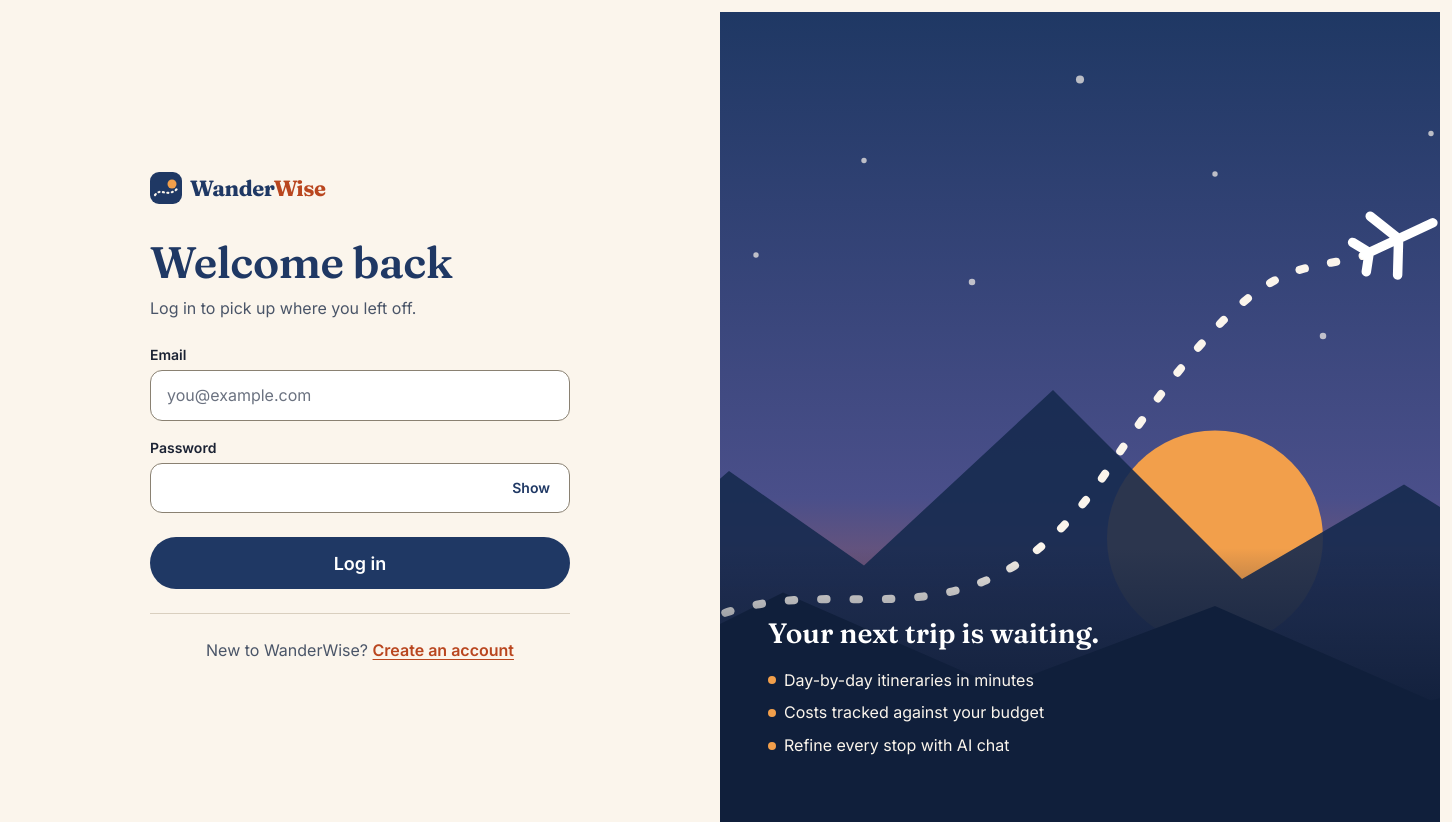
Test: Login page › still explains a 429 if the server sent no message
Type "ada@example.com" into the field labelled "Email" at [360, 395], box [150,370,570,421]
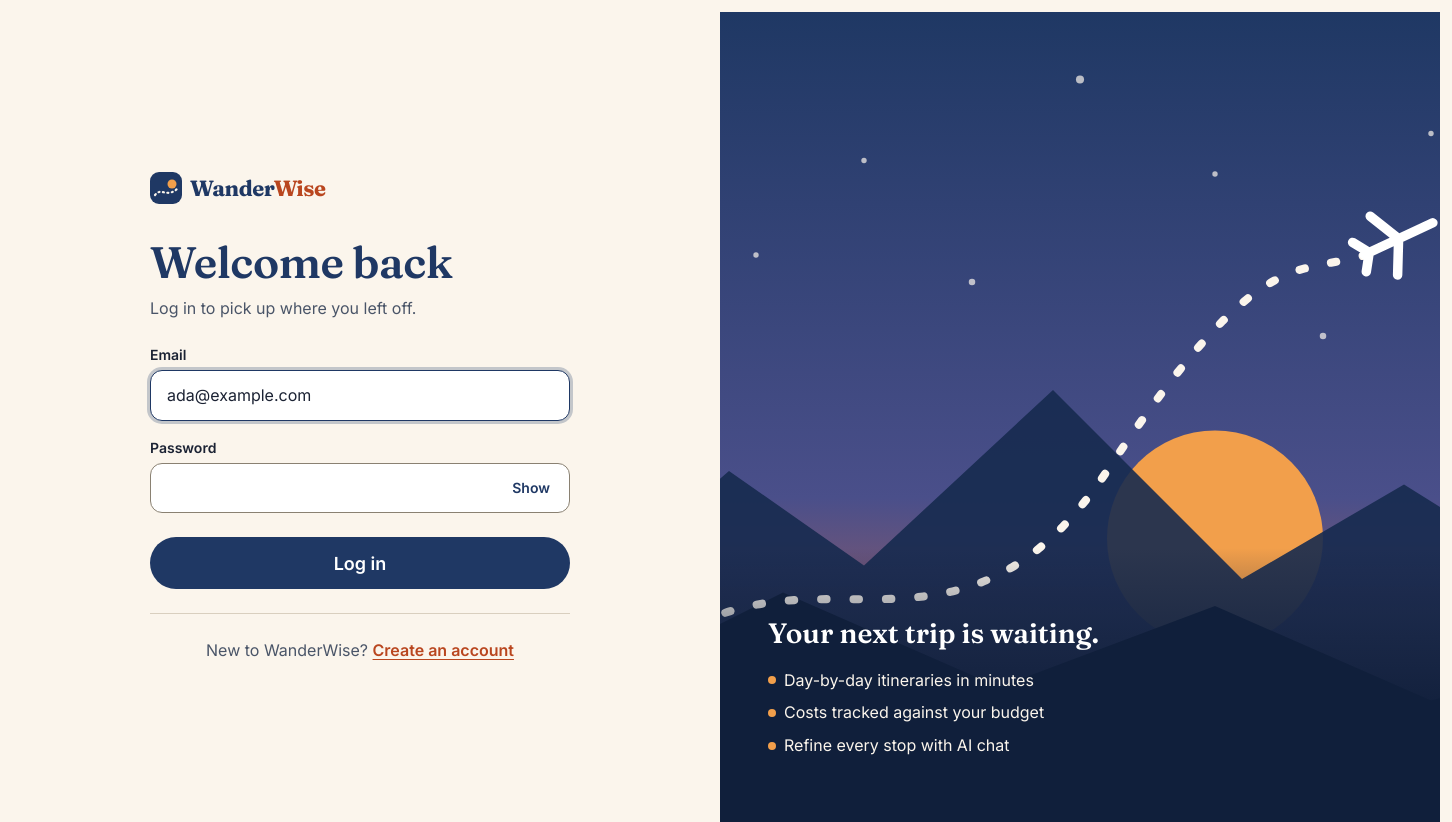
Type "wrong-password" into the password field labelled "Password" at [360, 488], box [150,462,570,513]
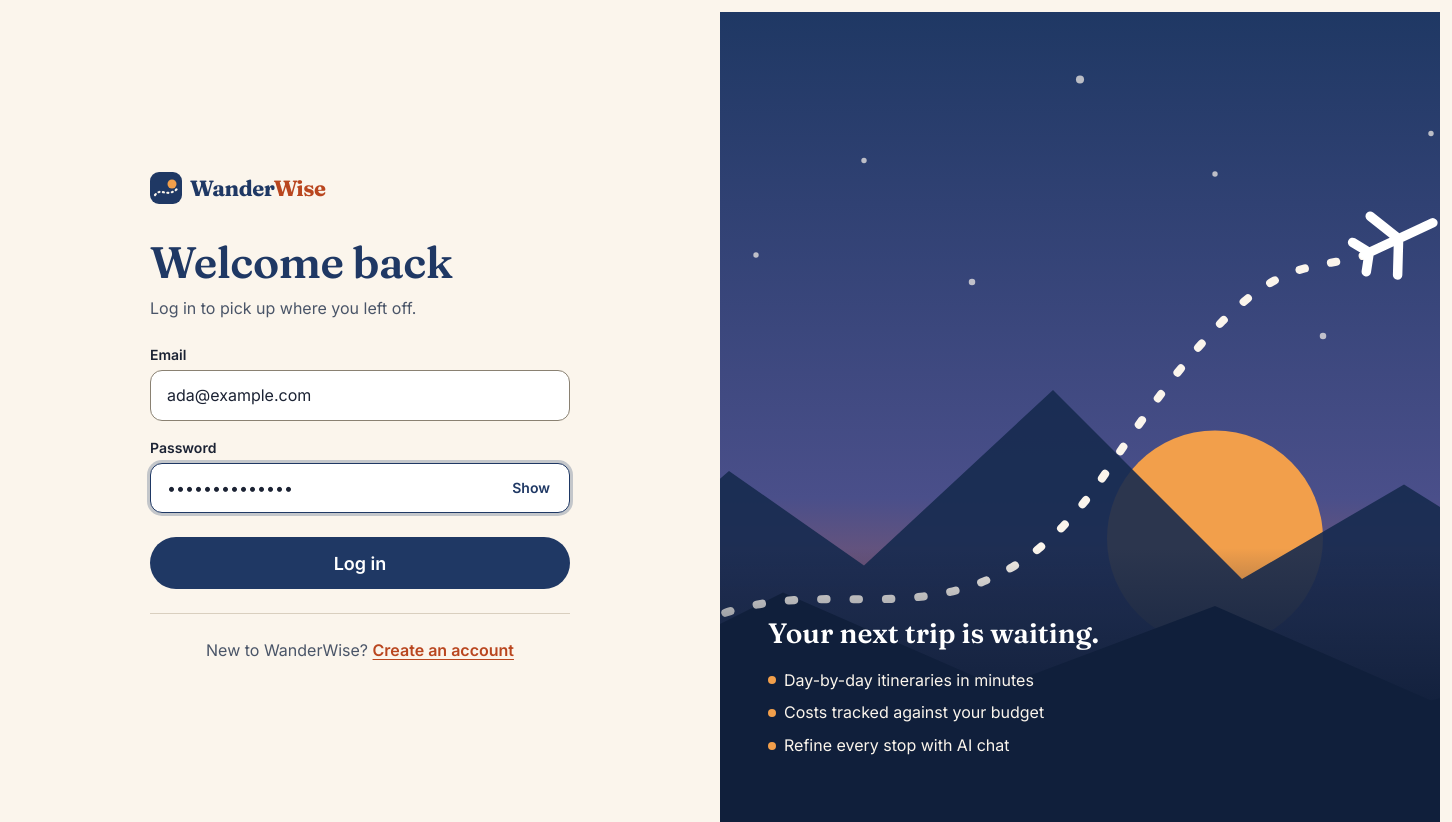
Click the button "Log in" at [360, 563], box [150,537,570,589]
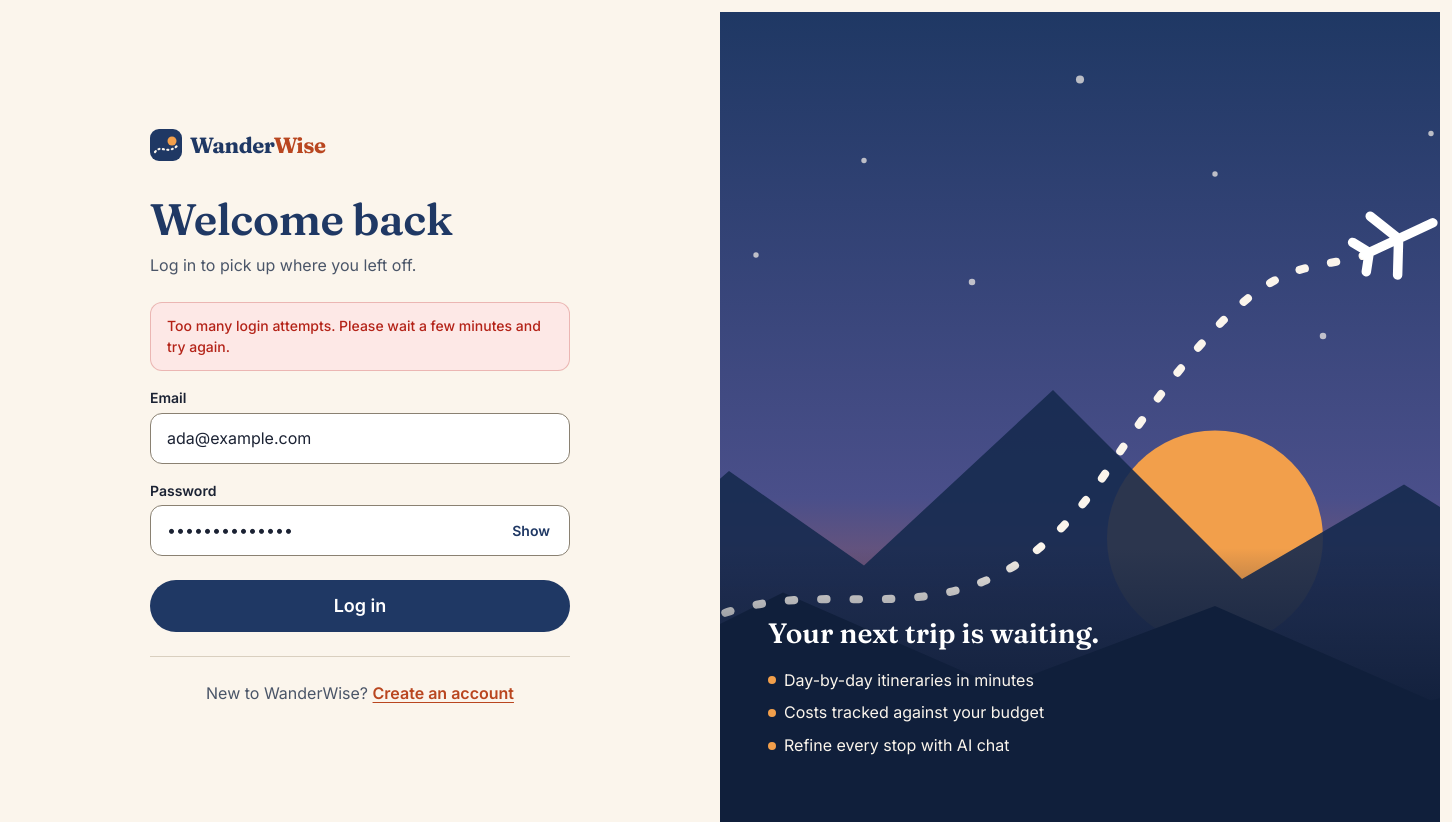
Result: the message shows "Too many login attempts" at [167,317,541,355]
